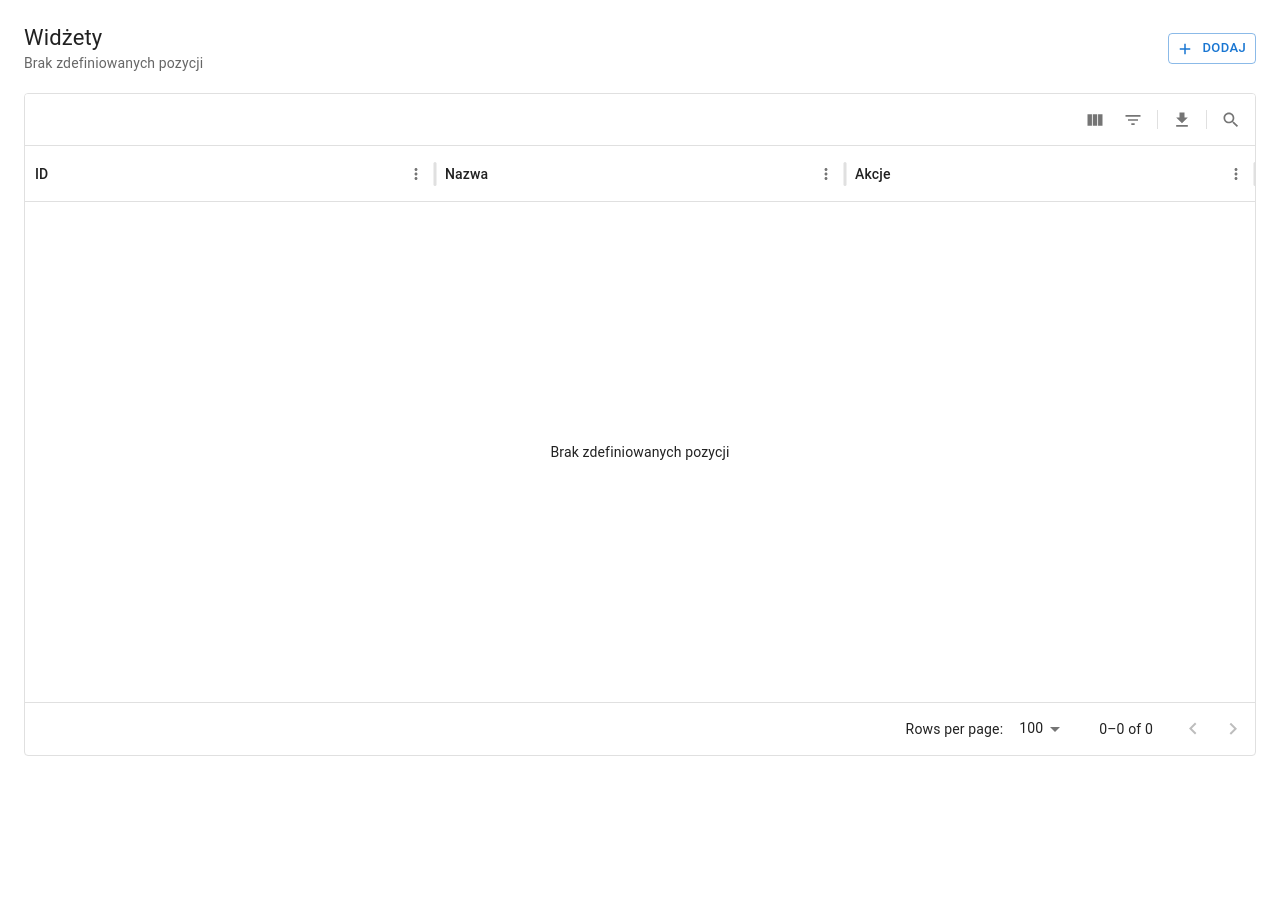
SimpleCrudPage › disables submit until required fields are filled
Click the button "Dodaj": x=1212, y=49 [1168,33,1256,64]
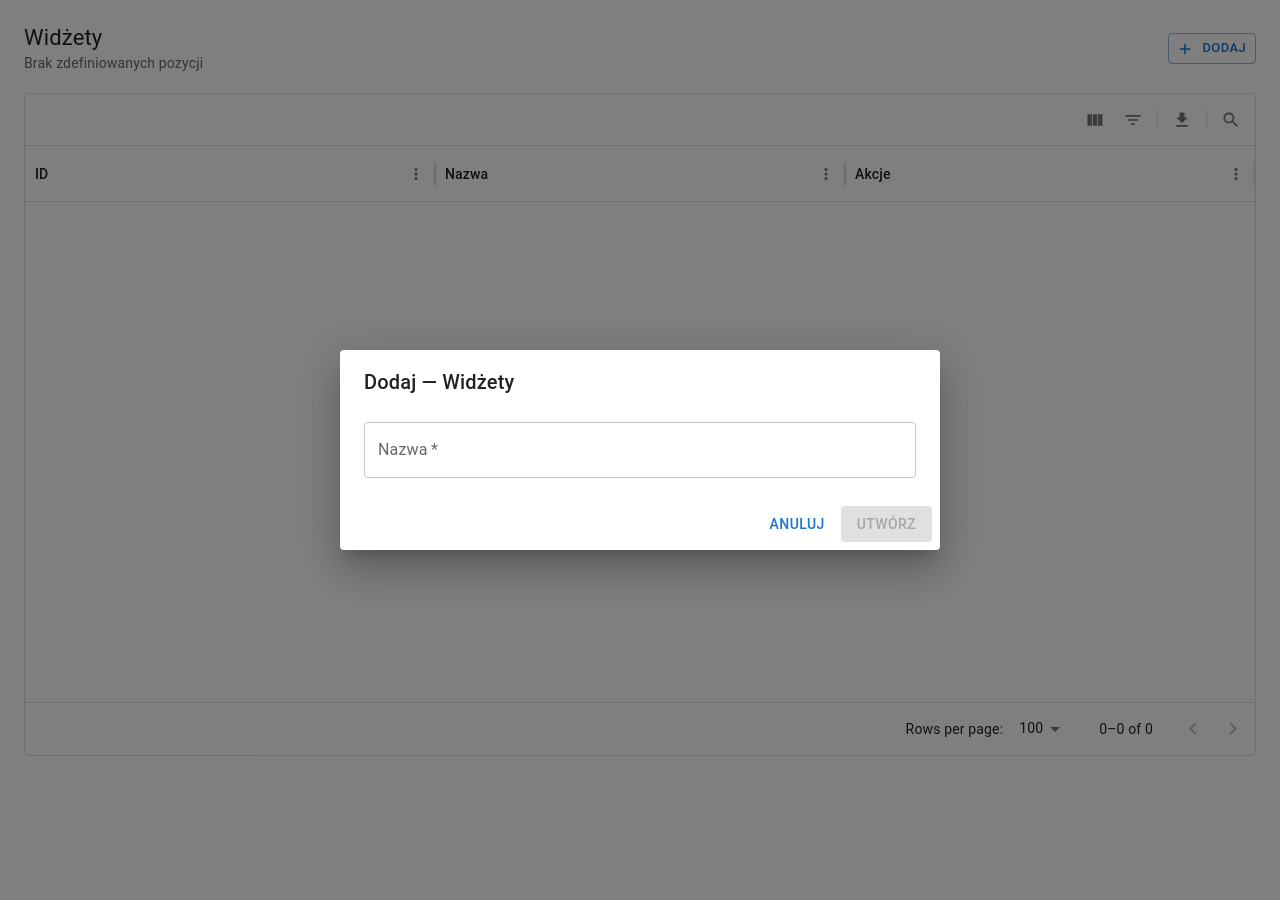
Check: the button "Utwórz" is disabled, box [841,506,932,542]
